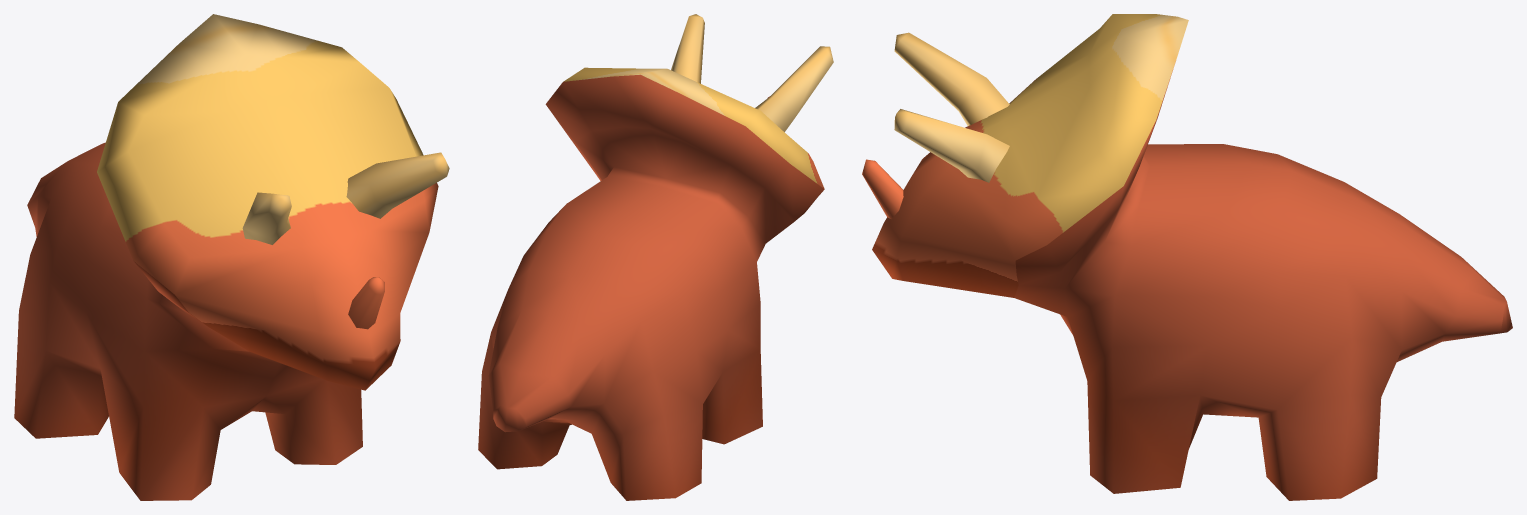
The model's file is Tri.fbx.
3 views of the same model, side by side, from view 1: azimuth 30°, elevation 25°; view 2: azimuth 150°, elevation 25°; view 3: azimuth 270°, elevation 25° (orthographic). The views are drawn at different scales.
Visible parts, largest first — view 1: Tri; view 2: Tri; view 3: Tri.
Boxes of the visible parts, x1,y1,x2,y2 form: Tri: [14, 14, 449, 500]; Tri: [478, 14, 833, 500]; Tri: [862, 14, 1512, 500].
Bounding box in the file's own units: 298 × 403 × 564.
